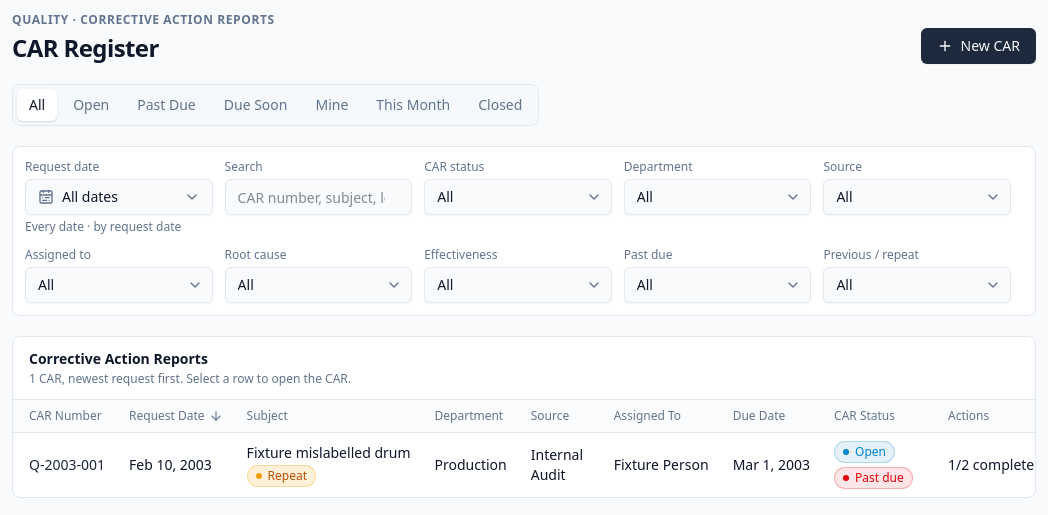
Test: CAR Register › sorts by request date on the server, newest first by default
Step 1. Click the button "Request Date" → click(176, 416), box [129,408,223,424]
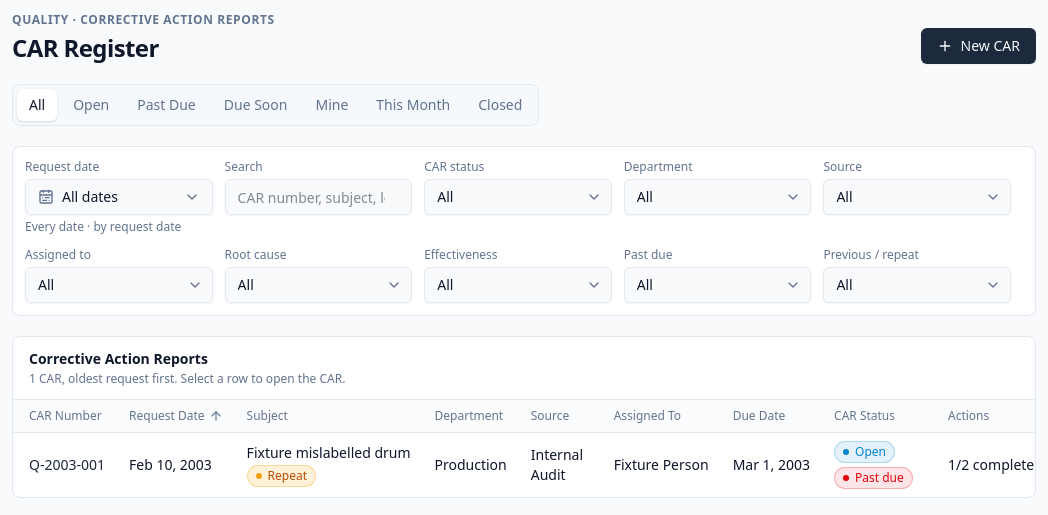
Expected: the text "oldest request first" is shown, [29,370,345,387]
